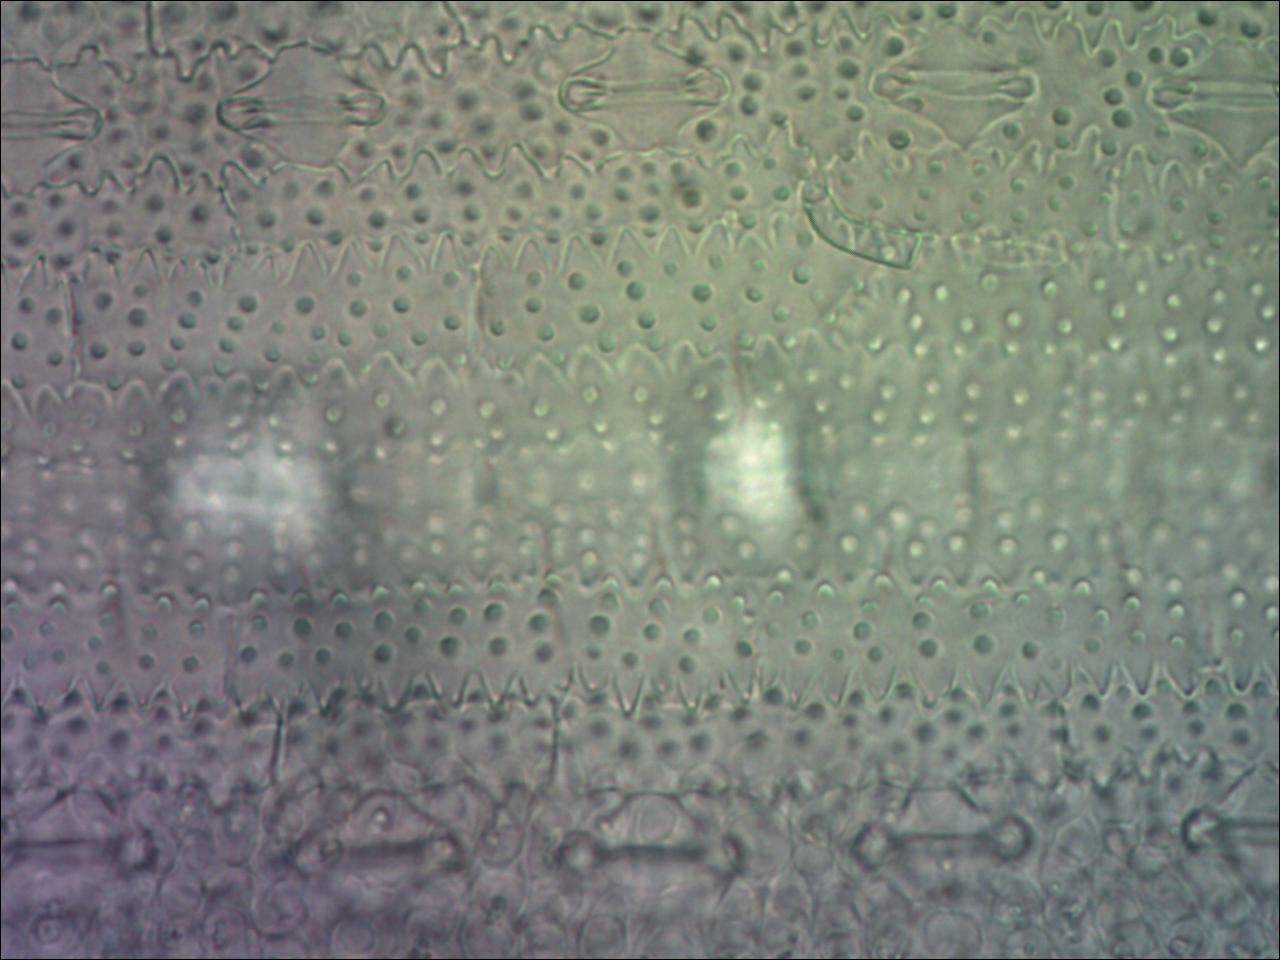stoma: (279, 790, 463, 922), (214, 34, 388, 170), (842, 788, 1039, 906), (560, 793, 736, 923), (870, 29, 1039, 151), (558, 33, 728, 153), (3, 790, 163, 914), (1150, 39, 1280, 161), (1, 49, 104, 199), (1185, 763, 1280, 878)
